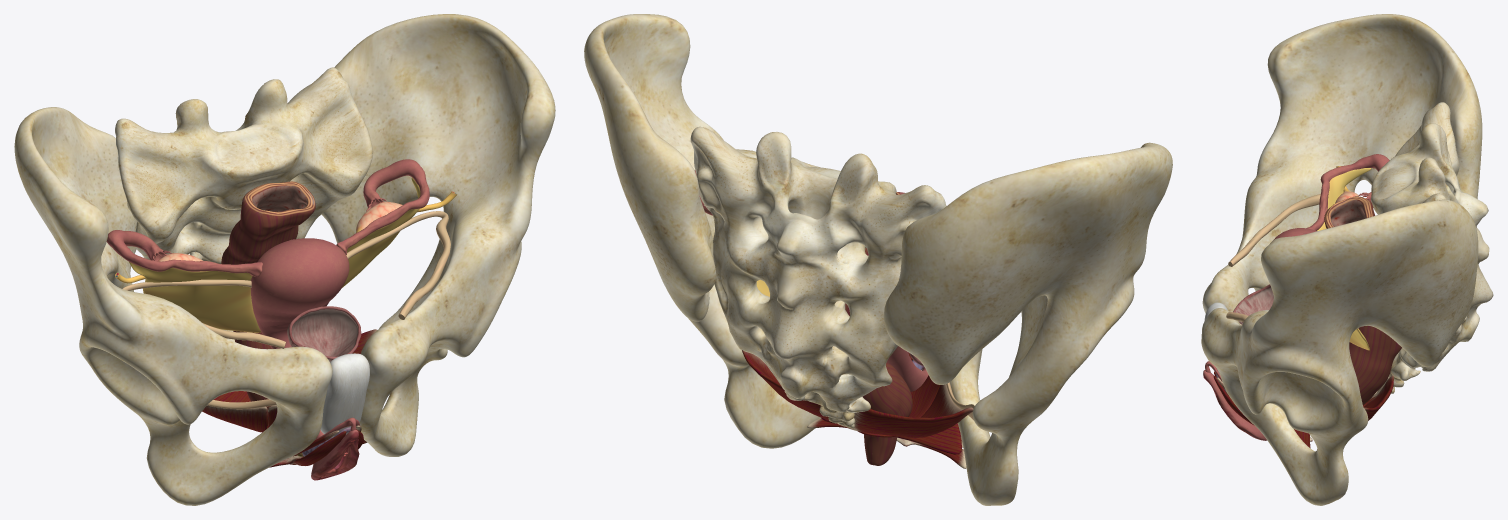
File: female_reproductive_system.glb
3 views of the same model, side by side, from view 1: azimuth 30°, elevation 25°; view 2: azimuth 150°, elevation 25°; view 3: azimuth 270°, elevation 25° (orthographic). The views are drawn at different scales.
Visible parts, largest first — view 1: Pelvis_Edit, Sacrum_Edit, UterusVagina, Broad_Ligament_FNL, Merged_Colon_Rectum_Anus2, Fallopian_Edits, RoundLigament, Bladder_1, illiococcygeus, Ovaries_Edit, Superficial_Transverse_Perineal, Uterus_CutAway_FNL; view 2: Pelvis_Edit, Sacrum_Edit, illiococcygeus, Merged_Colon_Rectum_Anus2, Deep_Transverse_Perineal, UterusVagina, Pubococcygeus; view 3: Pelvis_Edit, Sacrum_Edit, Merged_Colon_Rectum_Anus2, Fallopian_Edits, RoundLigament, UterusVagina, Broad_Ligament_FNL, Bladder_1, illiococcygeus.
Boxes of the visible parts, left/top/right/bottom form: Pelvis_Edit: left=14, top=14, right=555, bottom=505; Sacrum_Edit: left=115, top=67, right=372, bottom=341; UterusVagina: left=250, top=238, right=359, bottom=480; Broad_Ligament_FNL: left=129, top=177, right=420, bottom=332; Merged_Colon_Rectum_Anus2: left=221, top=181, right=315, bottom=464; Fallopian_Edits: left=106, top=159, right=429, bottom=276; RoundLigament: left=123, top=211, right=450, bottom=348; Bladder_1: left=287, top=306, right=361, bottom=361; illiococcygeus: left=202, top=329, right=376, bottom=432; Ovaries_Edit: left=115, top=191, right=457, bottom=283; Superficial_Transverse_Perineal: left=269, top=429, right=367, bottom=467; Uterus_CutAway_FNL: left=259, top=239, right=328, bottom=470; Pelvis_Edit: left=584, top=14, right=1172, bottom=505; Sacrum_Edit: left=690, top=126, right=946, bottom=428; illiococcygeus: left=742, top=350, right=973, bottom=437; Merged_Colon_Rectum_Anus2: left=845, top=192, right=912, bottom=465; Deep_Transverse_Perineal: left=821, top=352, right=961, bottom=454; UterusVagina: left=887, top=192, right=928, bottom=391; Pubococcygeus: left=909, top=375, right=939, bottom=417; Pelvis_Edit: left=1201, top=14, right=1482, bottom=505; Sacrum_Edit: left=1371, top=102, right=1493, bottom=393; Merged_Colon_Rectum_Anus2: left=1324, top=196, right=1401, bottom=404; Fallopian_Edits: left=1306, top=154, right=1389, bottom=230; RoundLigament: left=1226, top=189, right=1350, bottom=322; UterusVagina: left=1203, top=228, right=1316, bottom=440; Broad_Ligament_FNL: left=1317, top=168, right=1371, bottom=350; Bladder_1: left=1233, top=284, right=1273, bottom=324; illiococcygeus: left=1363, top=375, right=1393, bottom=420.
Bounding box in the file's own units: 0.2802 × 0.2058 × 0.1572.
Materials: 11 (11 with a texture image).
